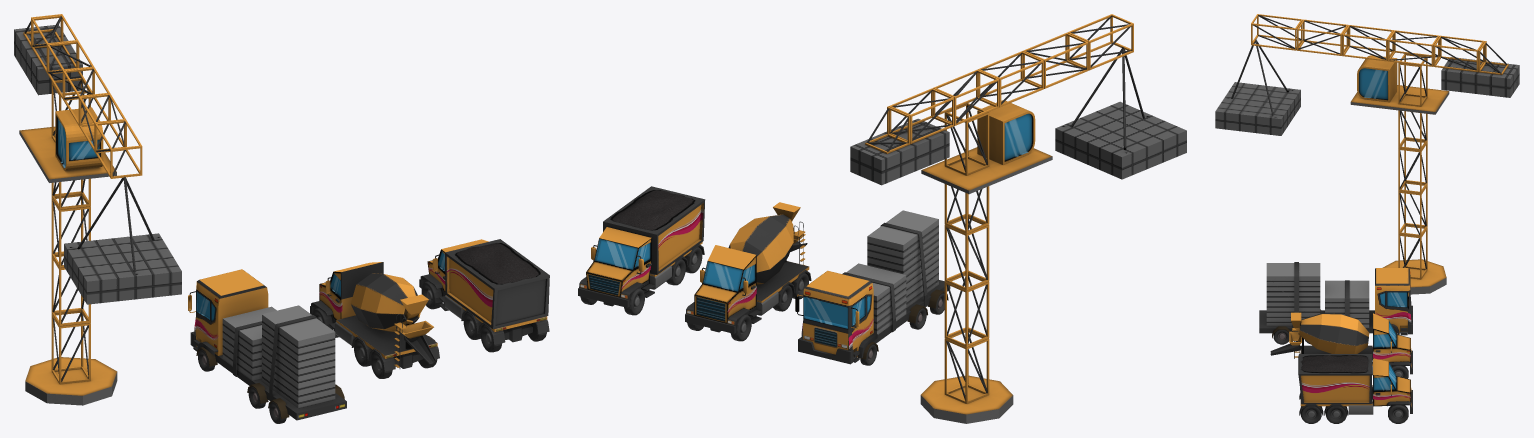
Rendered from Construction01_vehicles.fbx.
3 renders of one model, left to right at view 1: azimuth 30°, elevation 25°; view 2: azimuth 150°, elevation 25°; view 3: azimuth 270°, elevation 25°, orthographic. The views are drawn at different scales.
Parts seen in each view (by area): view 1: Con_Crane, Con_Carrier, Con_Lorry, Con_Concrete; view 2: Con_Crane, Con_Carrier, Con_Lorry, Con_Concrete; view 3: Con_Crane, Con_Carrier, Con_Lorry, Con_Concrete.
Part boxes in pixels (x1,y1,x2,y2): Con_Crane: (14,14,181,405); Con_Carrier: (188,269,346,423); Con_Lorry: (419,239,549,352); Con_Concrete: (310,262,439,378); Con_Crane: (850,14,1186,423); Con_Carrier: (795,210,950,365); Con_Lorry: (578,186,705,315); Con_Concrete: (685,202,811,341); Con_Crane: (1215,14,1519,294); Con_Carrier: (1259,262,1412,344); Con_Lorry: (1298,354,1412,423); Con_Concrete: (1270,312,1412,378).
Size of the model in its own units: 4151 by 2587 by 2931.
